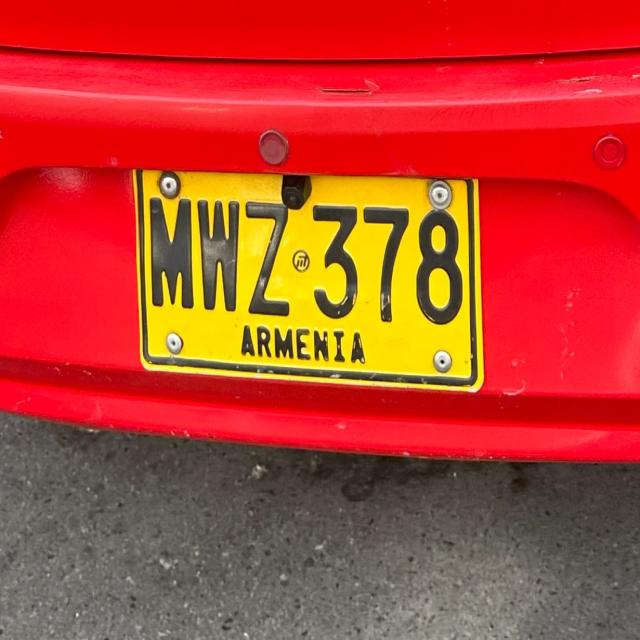number plate: (0, 2, 639, 460), (133, 170, 482, 389)
